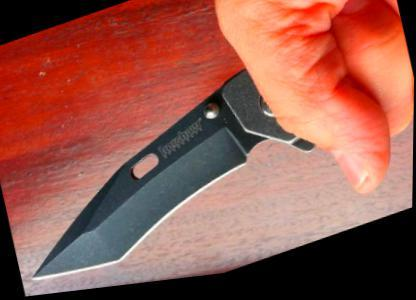knife: (0, 13, 414, 297)
